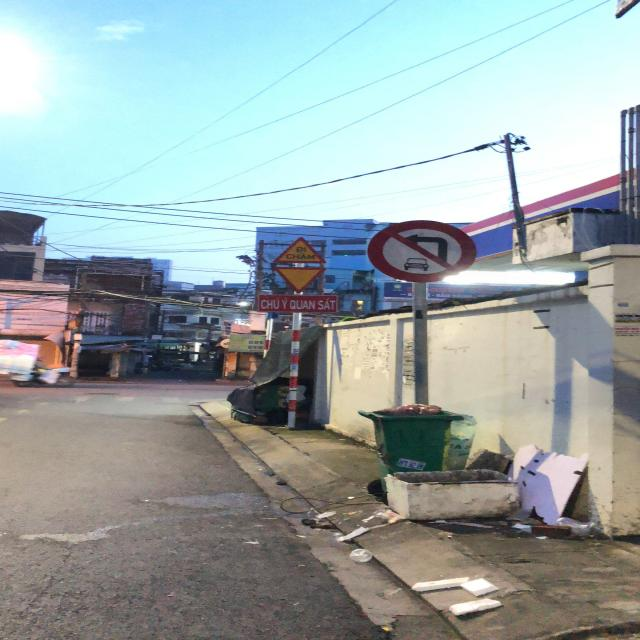Bien bao cam xe o to re trai: (366, 218, 478, 286)
Bien bao di cham: (270, 234, 329, 267)
Bien bao giao nhau voi duong uu tien: (268, 266, 328, 294)
